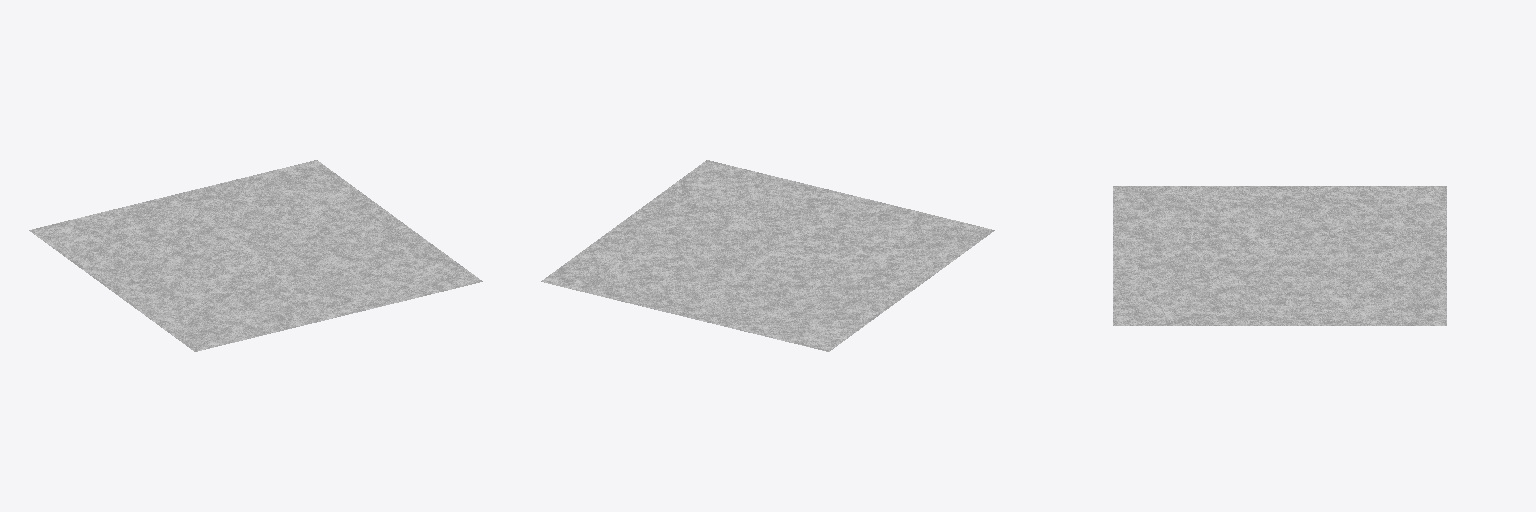
3 renders of one model, left to right at view 1: azimuth 30°, elevation 25°; view 2: azimuth 150°, elevation 25°; view 3: azimuth 270°, elevation 25°, orthographic.
Parts seen in each view (by area): view 1: 平面; view 2: 平面; view 3: 平面.
Part boxes in pixels (left/top/right/bottom): 平面: left=29, top=160, right=482, bottom=351; 平面: left=541, top=160, right=994, bottom=351; 平面: left=1113, top=186, right=1446, bottom=325.
Size of the model in its own units: 60 by 0 by 60.
1 materials, 1 textured.